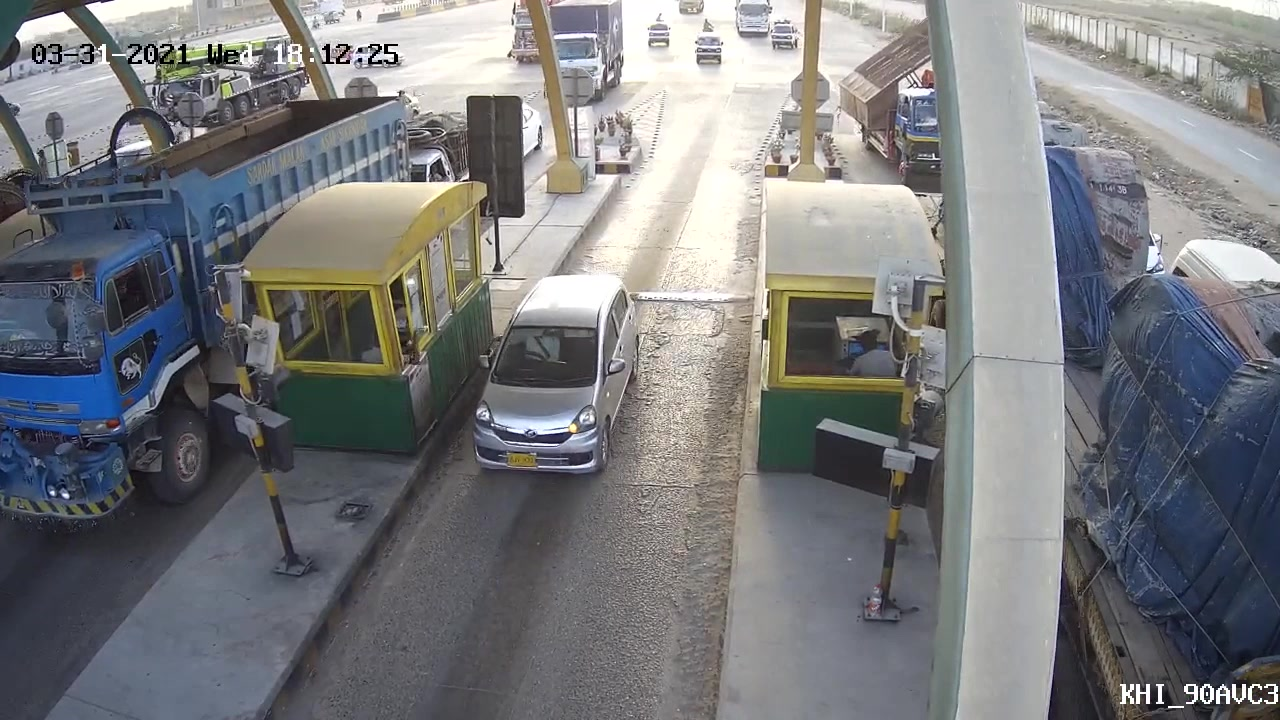F1: (462, 266, 654, 477)
